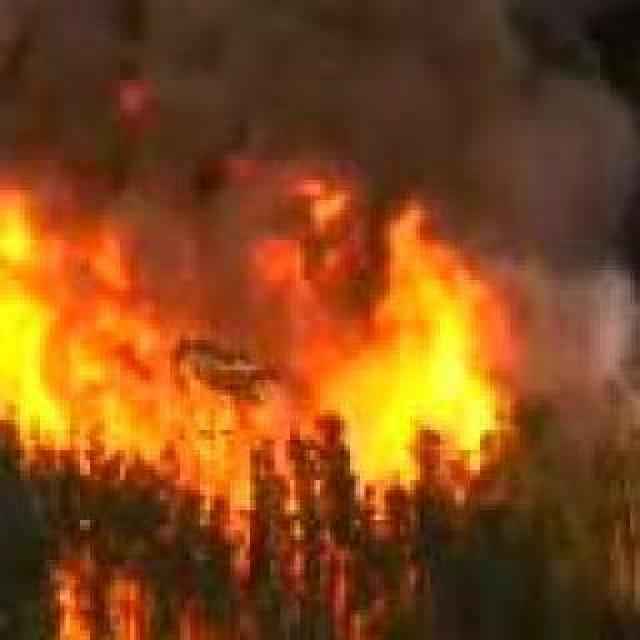fire: (0, 150, 514, 640)
